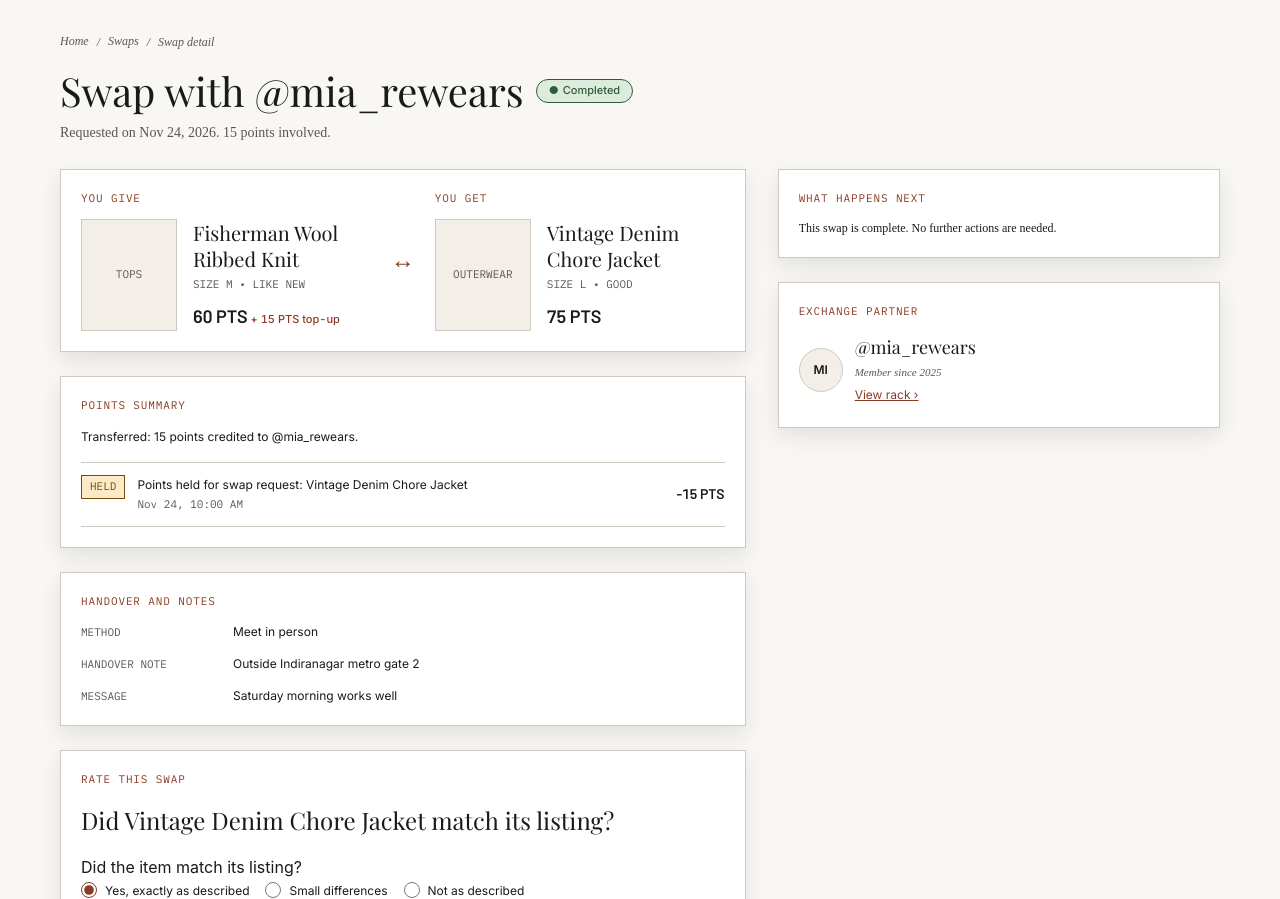
Scenario: SwapDetailPage role and state actions › supports keyboard arrow navigation on star radiogroup, requires mismatch reason for Not as described, and hides card when rated or expired
expect the text "RATE THIS SWAP" is shown: met, box [81,772,186,786]
Press Arrowright Arrowright Arrowright
(page scrolled)
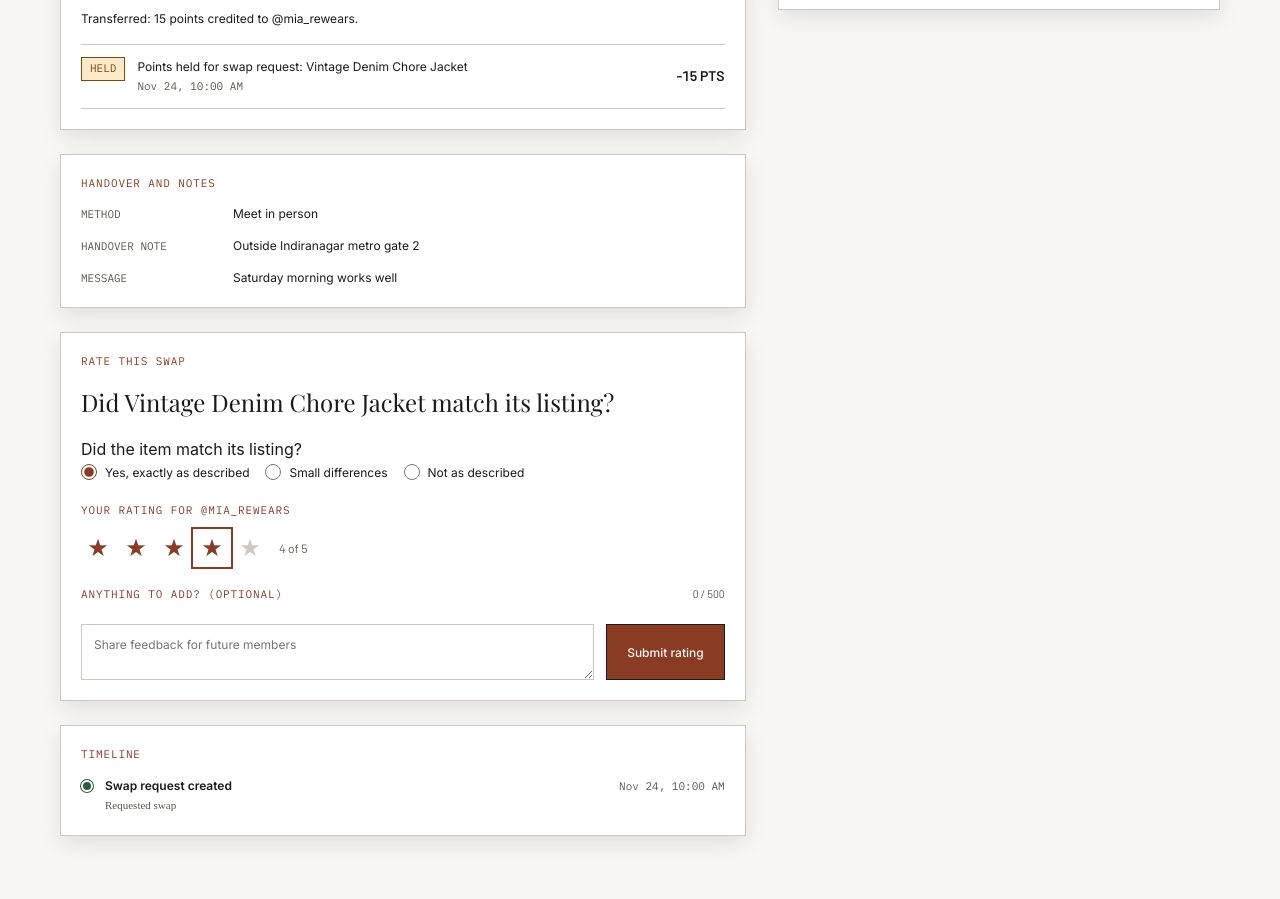
expect the text "4 of 5" is shown: met, box [279,539,307,558]
Selecting Not as described shows consequence + requires reason
Click the radio button labelled "Not as described".
click(412, 472)  # box [404,464,420,480]
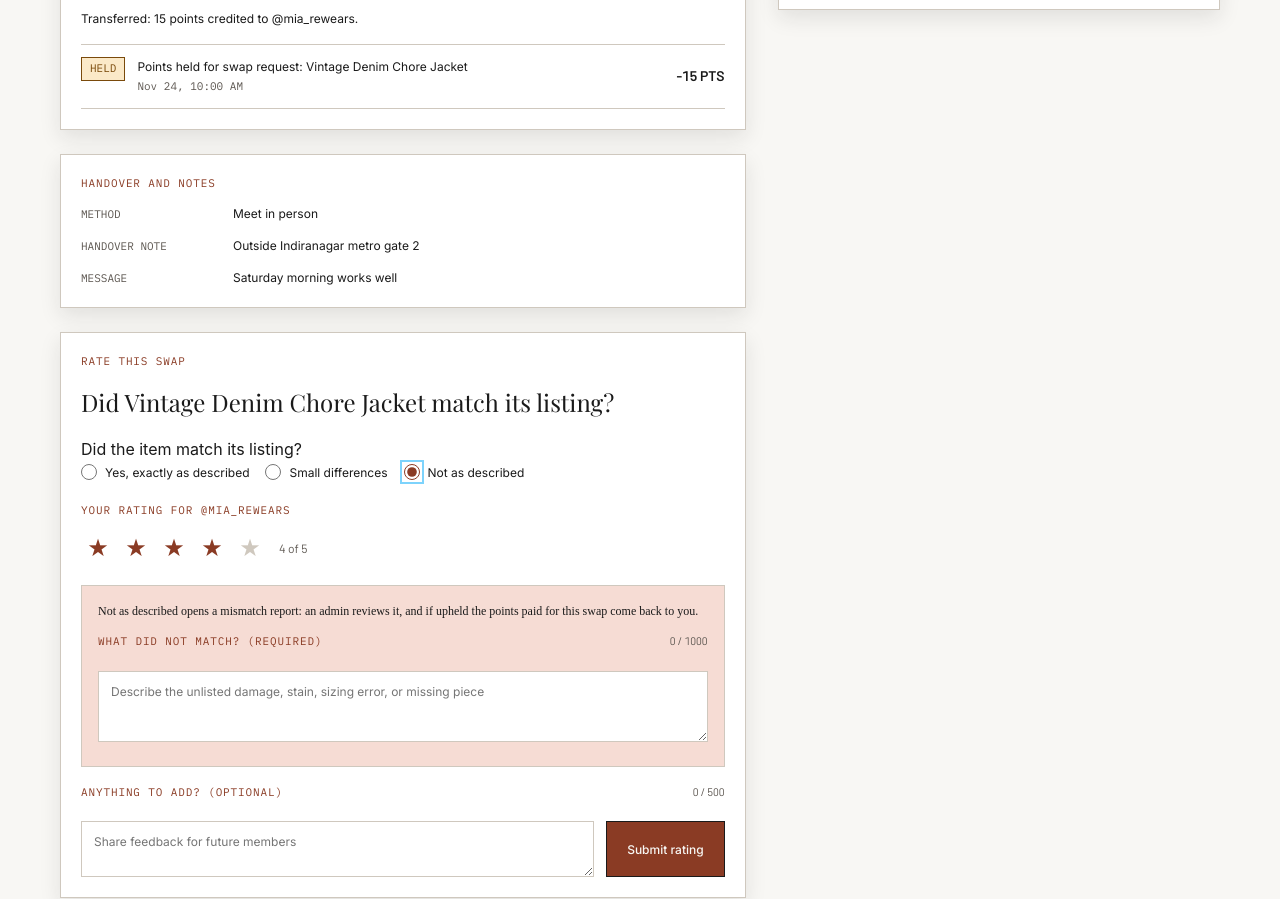
expect the text "an admin reviews it, and if upheld the points paid for this swap come back" is shown: met, box [98,604,698,618]
Click the button "Submit rating".
click(665, 849)  # box [606,821,725,877]
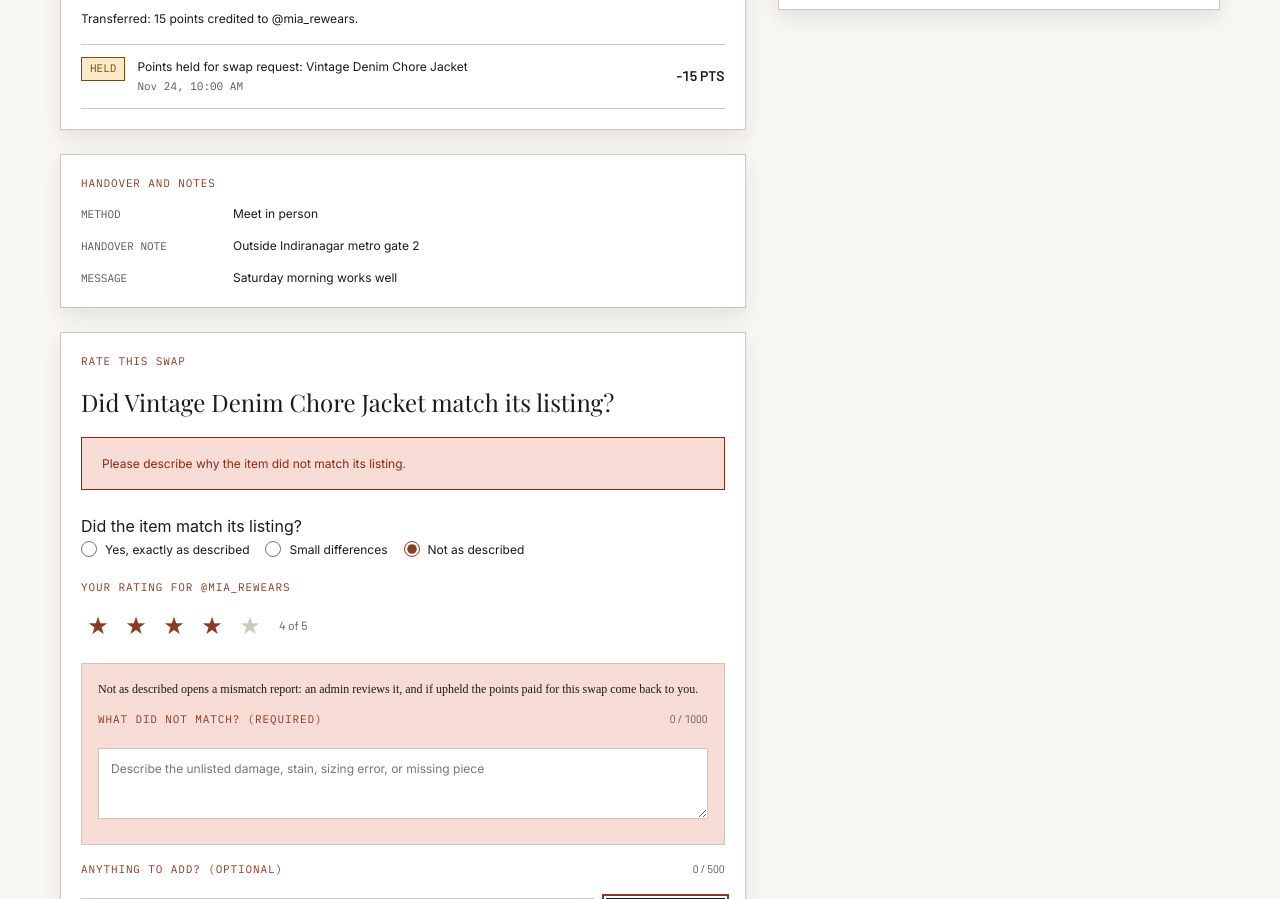
expect the message shows "did not match its listing": met, box [102,456,406,471]
Type "Hem was unstitched on arrival" into the text box labelled "WHAT DID NOT MATCH? (REQUIRED)".
click(403, 784); type("Hem was unstitched on arrival")  # box [98,748,708,819]
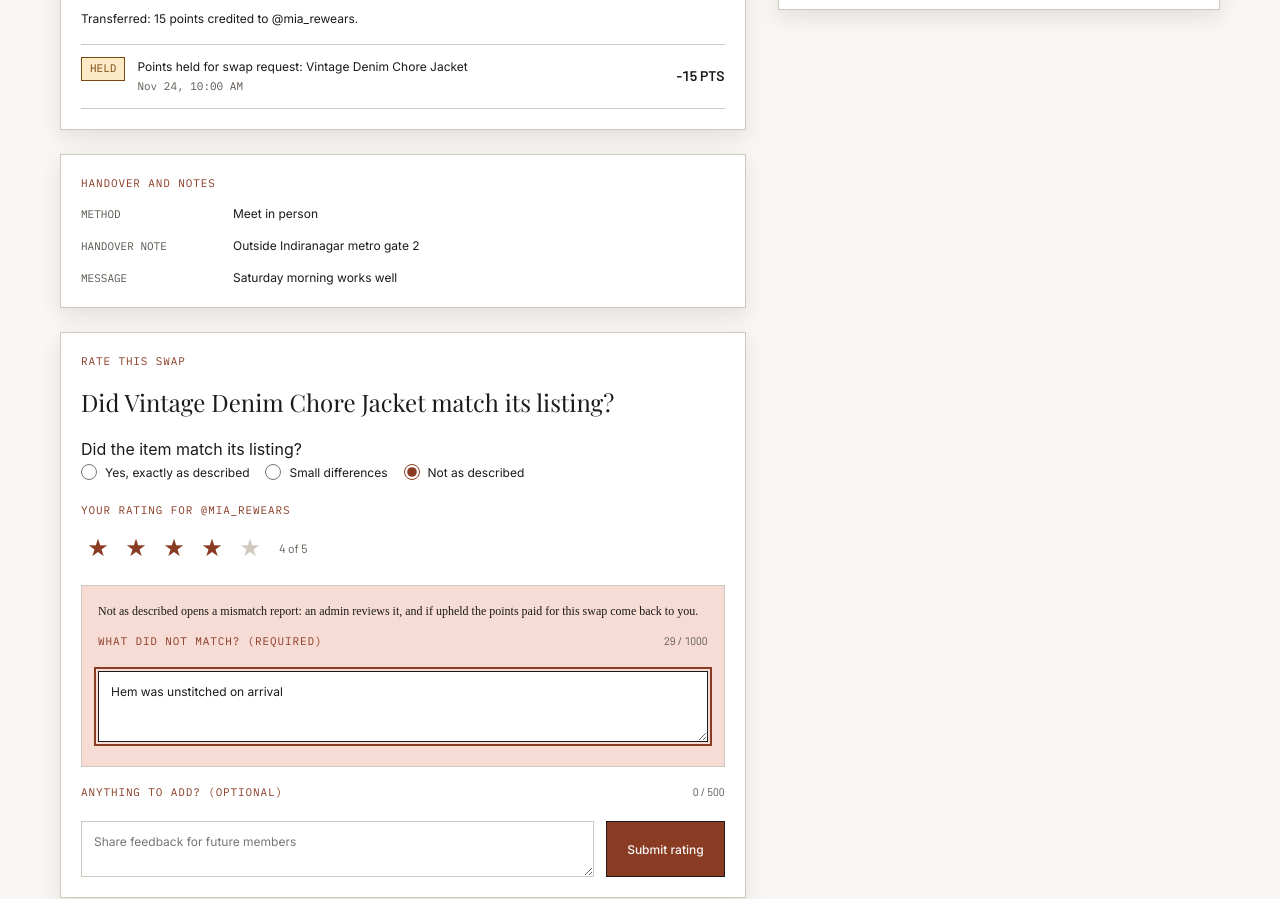
Type "Speedy shipping though." into the text box labelled "ANYTHING TO ADD? (OPTIONAL)".
click(338, 849); type("Speedy shipping though.")  # box [81,821,594,877]
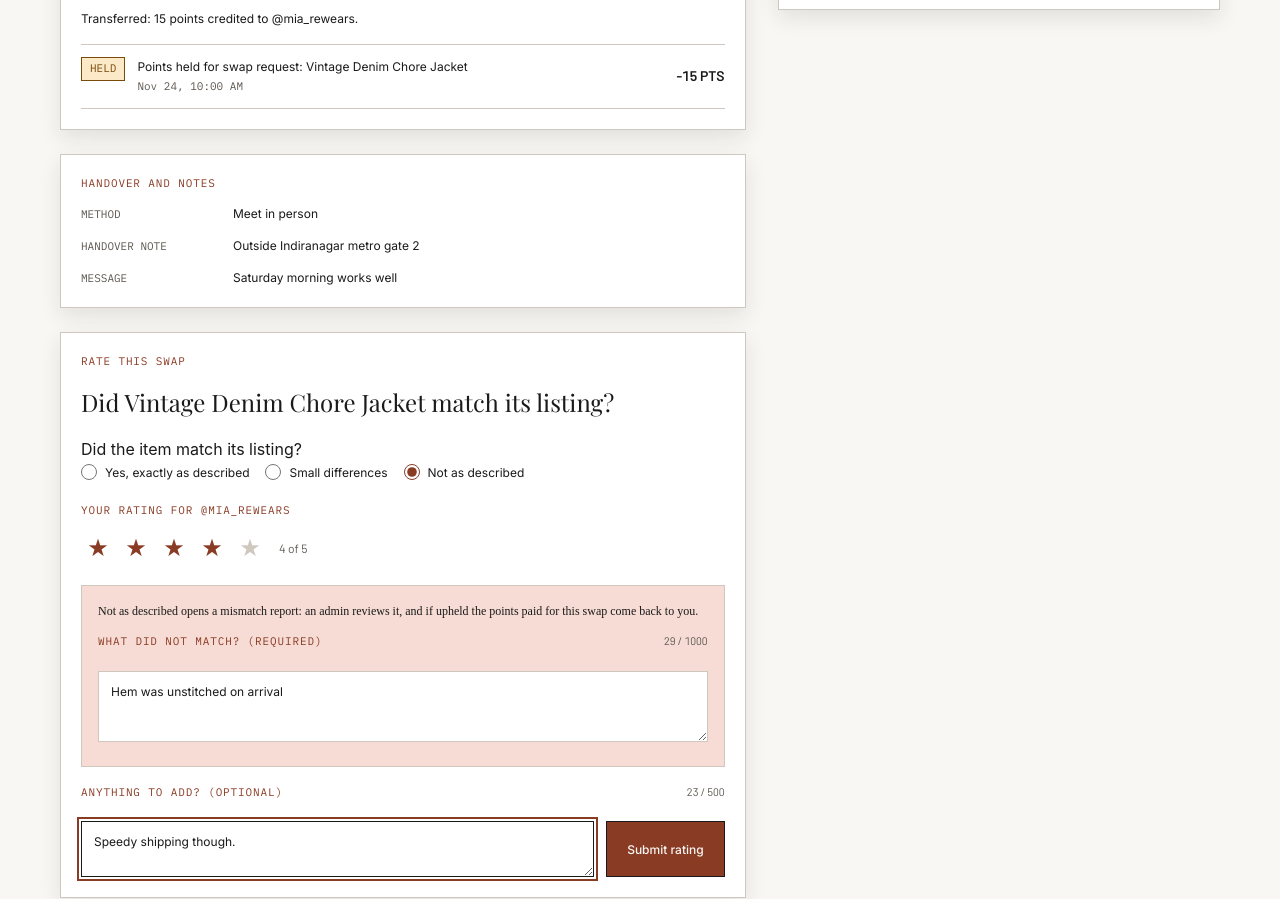
Click the button "Submit rating".
click(665, 849)  # box [606,821,725,877]
(page scrolled)
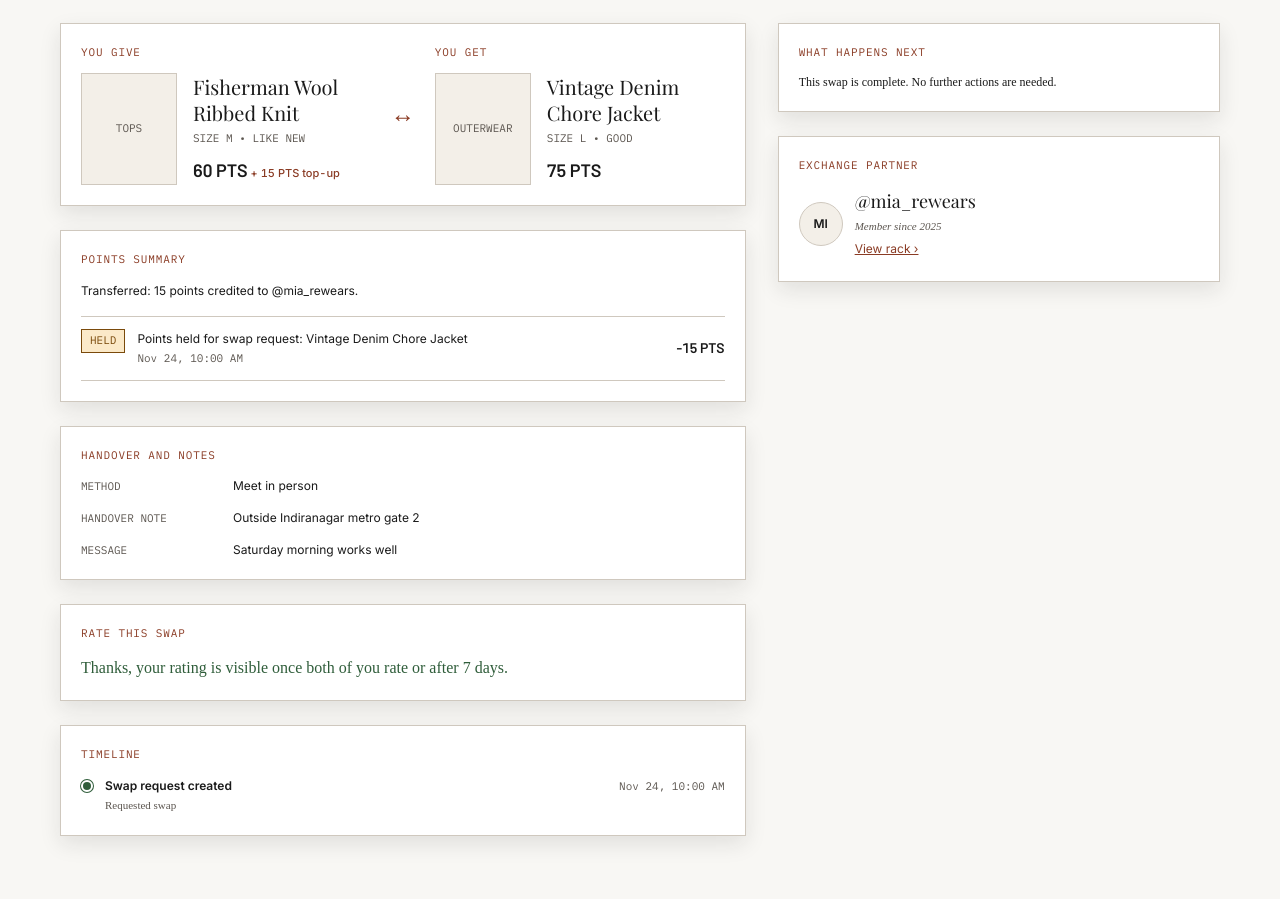
expect the text "Thanks, your rating is visible once both of you rate or after 7 days." is shown: met, box [81,659,508,676]
